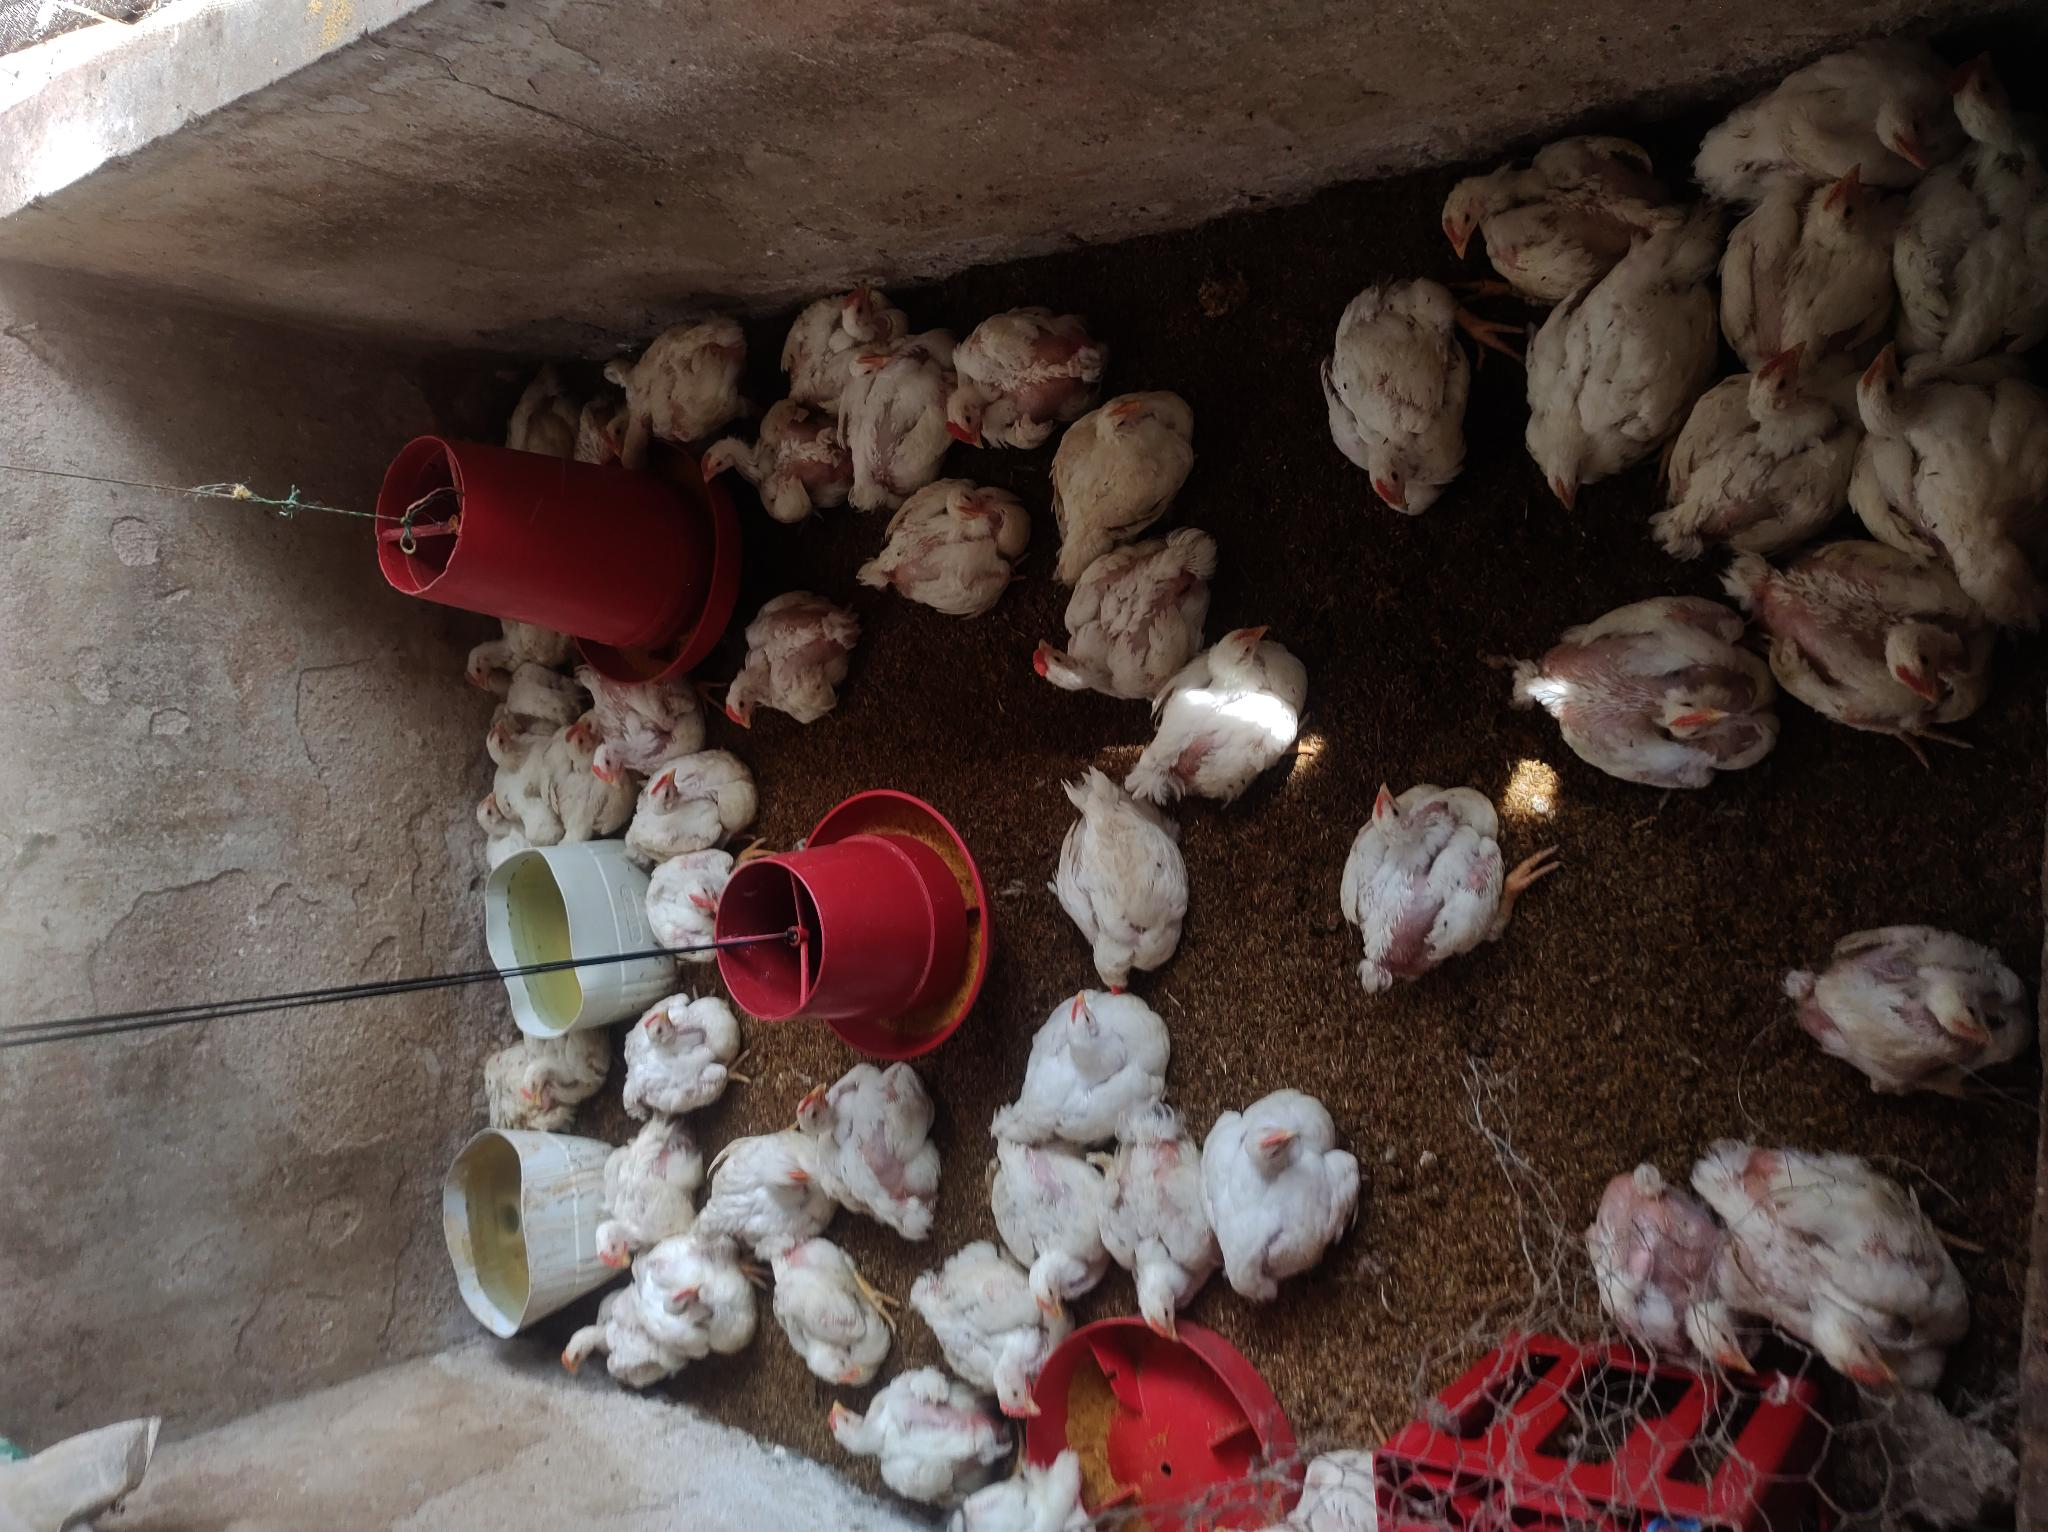Pollos: (1692, 1139, 1974, 1394), (1842, 340, 2048, 600), (1524, 241, 1710, 513), (1528, 587, 1779, 784), (1894, 69, 2048, 372), (1662, 328, 1855, 570), (1752, 542, 1988, 739), (1778, 924, 2025, 1101), (1435, 138, 1697, 304), (1697, 37, 1951, 200), (1718, 154, 1903, 373), (1578, 1167, 1766, 1378), (1339, 777, 1512, 995), (1318, 274, 1462, 525), (1030, 525, 1218, 703), (1133, 620, 1314, 801), (1207, 1085, 1361, 1295), (1046, 385, 1200, 586), (907, 1241, 1068, 1423), (1051, 784, 1187, 995), (787, 1065, 948, 1241), (997, 991, 1174, 1146), (857, 470, 1030, 618), (940, 307, 1107, 455), (824, 1369, 1009, 1498), (1112, 1112, 1208, 1349), (985, 1147, 1112, 1326), (767, 1226, 896, 1389), (689, 386, 848, 517), (843, 338, 967, 494), (718, 597, 849, 740), (611, 319, 755, 446), (582, 1126, 700, 1270), (693, 1133, 840, 1247), (623, 1238, 755, 1357), (940, 1442, 1102, 1532), (615, 991, 737, 1109), (595, 668, 703, 800), (623, 752, 751, 853), (777, 286, 898, 393), (555, 1289, 689, 1382), (455, 608, 581, 697), (483, 1032, 598, 1122), (541, 724, 623, 850), (475, 703, 561, 817), (644, 850, 730, 959), (499, 357, 574, 459), (462, 787, 533, 871)
